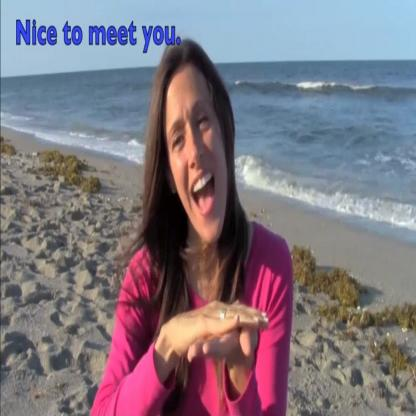NiceToMeetYou: (162, 280, 277, 393)
